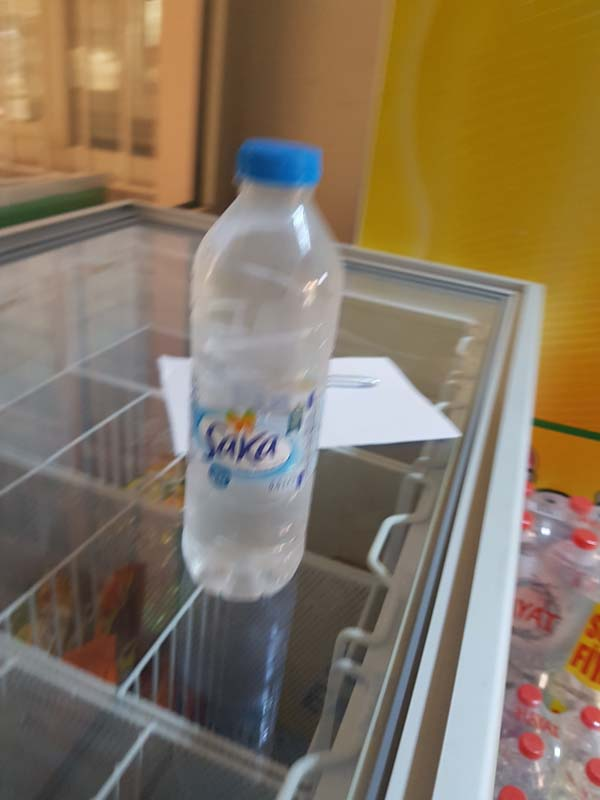saka500mlsu: (184, 129, 352, 609)
